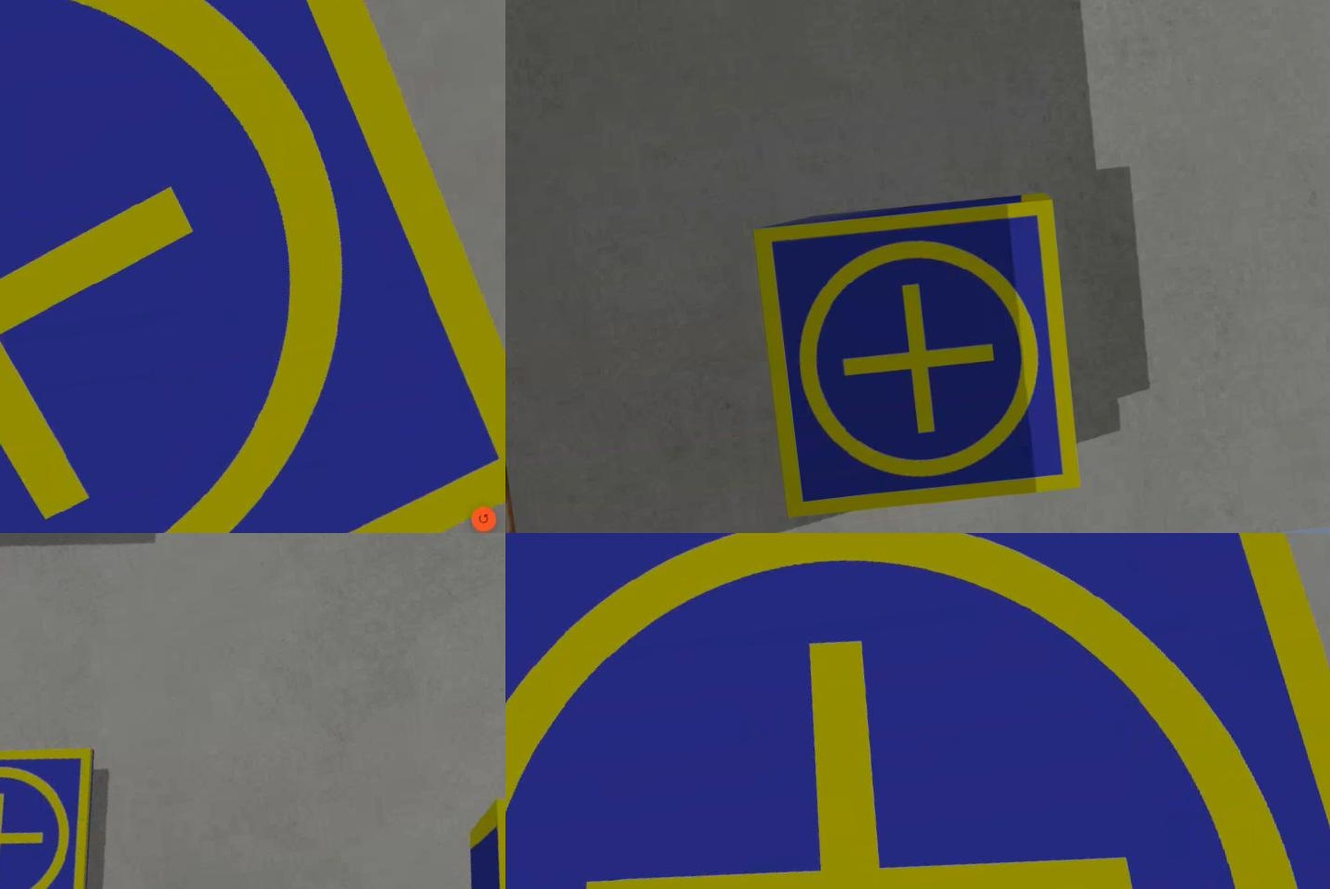small_base: (505, 534, 1328, 889), (0, 1, 505, 534), (749, 196, 1085, 525), (0, 729, 116, 889)
